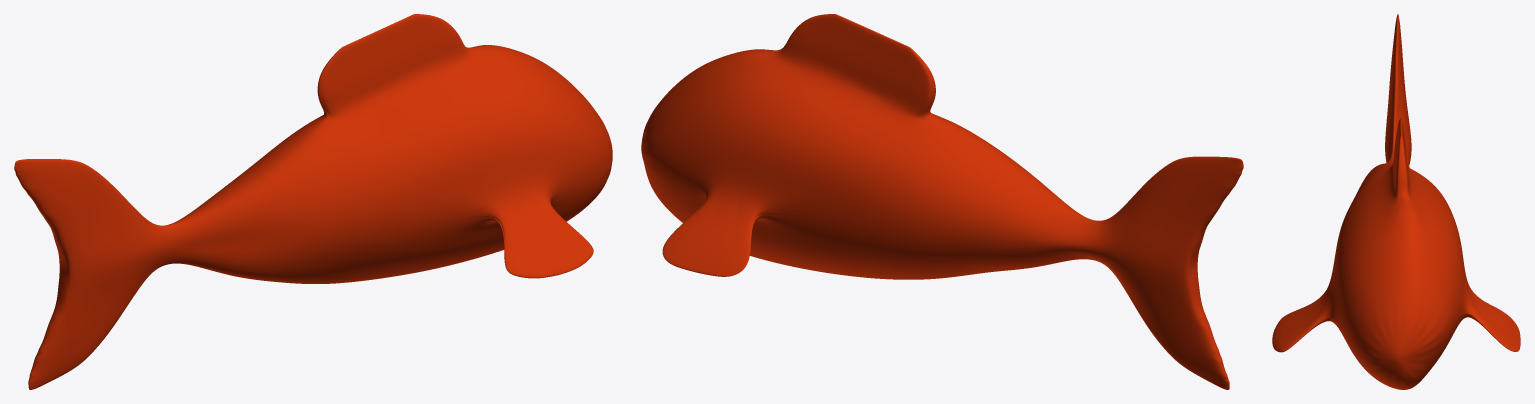
Rendered from fish.obj.
3 views of the same model, side by side, from view 1: azimuth 30°, elevation 25°; view 2: azimuth 150°, elevation 25°; view 3: azimuth 270°, elevation 25° (orthographic). The views are drawn at different scales.
Parts seen in each view (by area): view 1: fish_low_poly; view 2: fish_low_poly; view 3: fish_low_poly.
Boxes of the visible parts, box(x1,y1,x2,y2) form: fish_low_poly: box(14, 14, 612, 389); fish_low_poly: box(641, 14, 1243, 389); fish_low_poly: box(1272, 14, 1520, 389).
Size of the model in its own units: 4.6 by 2.07 by 2.02.
